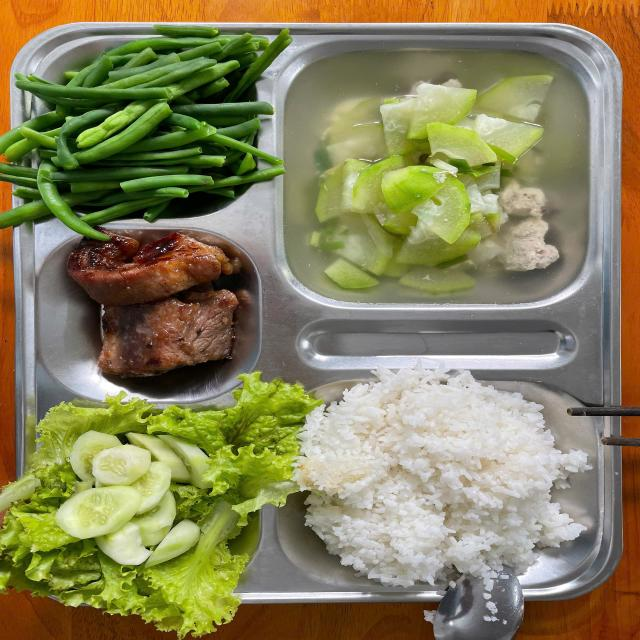cahoi: (58, 235, 239, 382)
canhbau: (285, 53, 598, 307)
dauque: (7, 23, 270, 219)
dualeo: (68, 424, 215, 566)
salad: (320, 384, 579, 575)
san: (2, 386, 312, 638)
